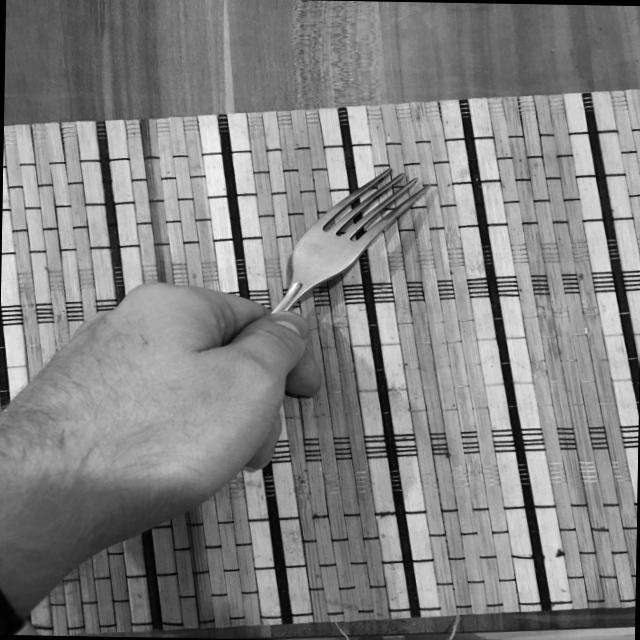fork: (191, 163, 434, 390)
